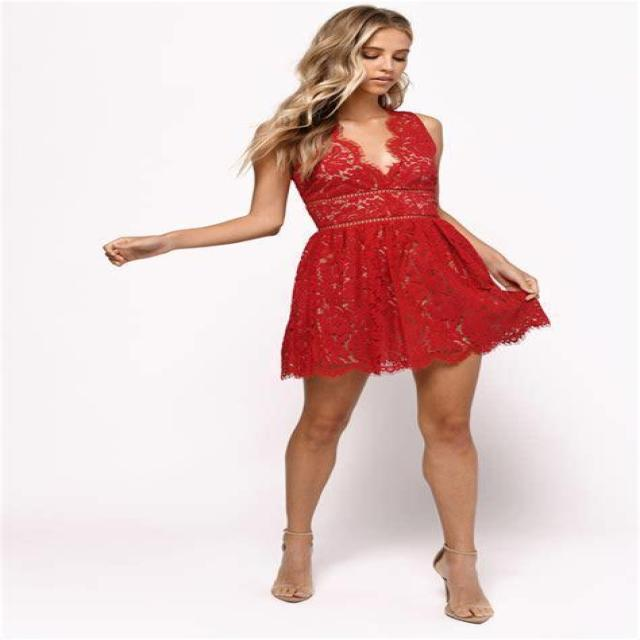dress: (279, 110, 551, 382)
